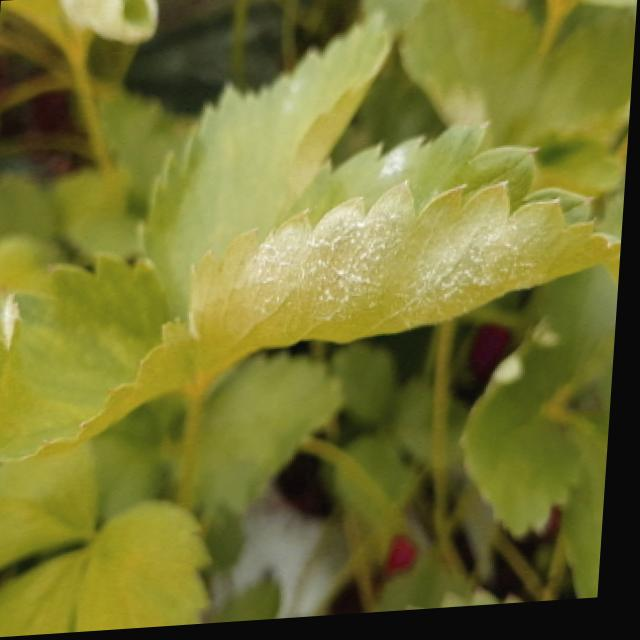Powdery Mildew Leaf: (193, 122, 625, 394), (140, 17, 392, 329), (0, 252, 207, 463), (57, 0, 161, 48)
